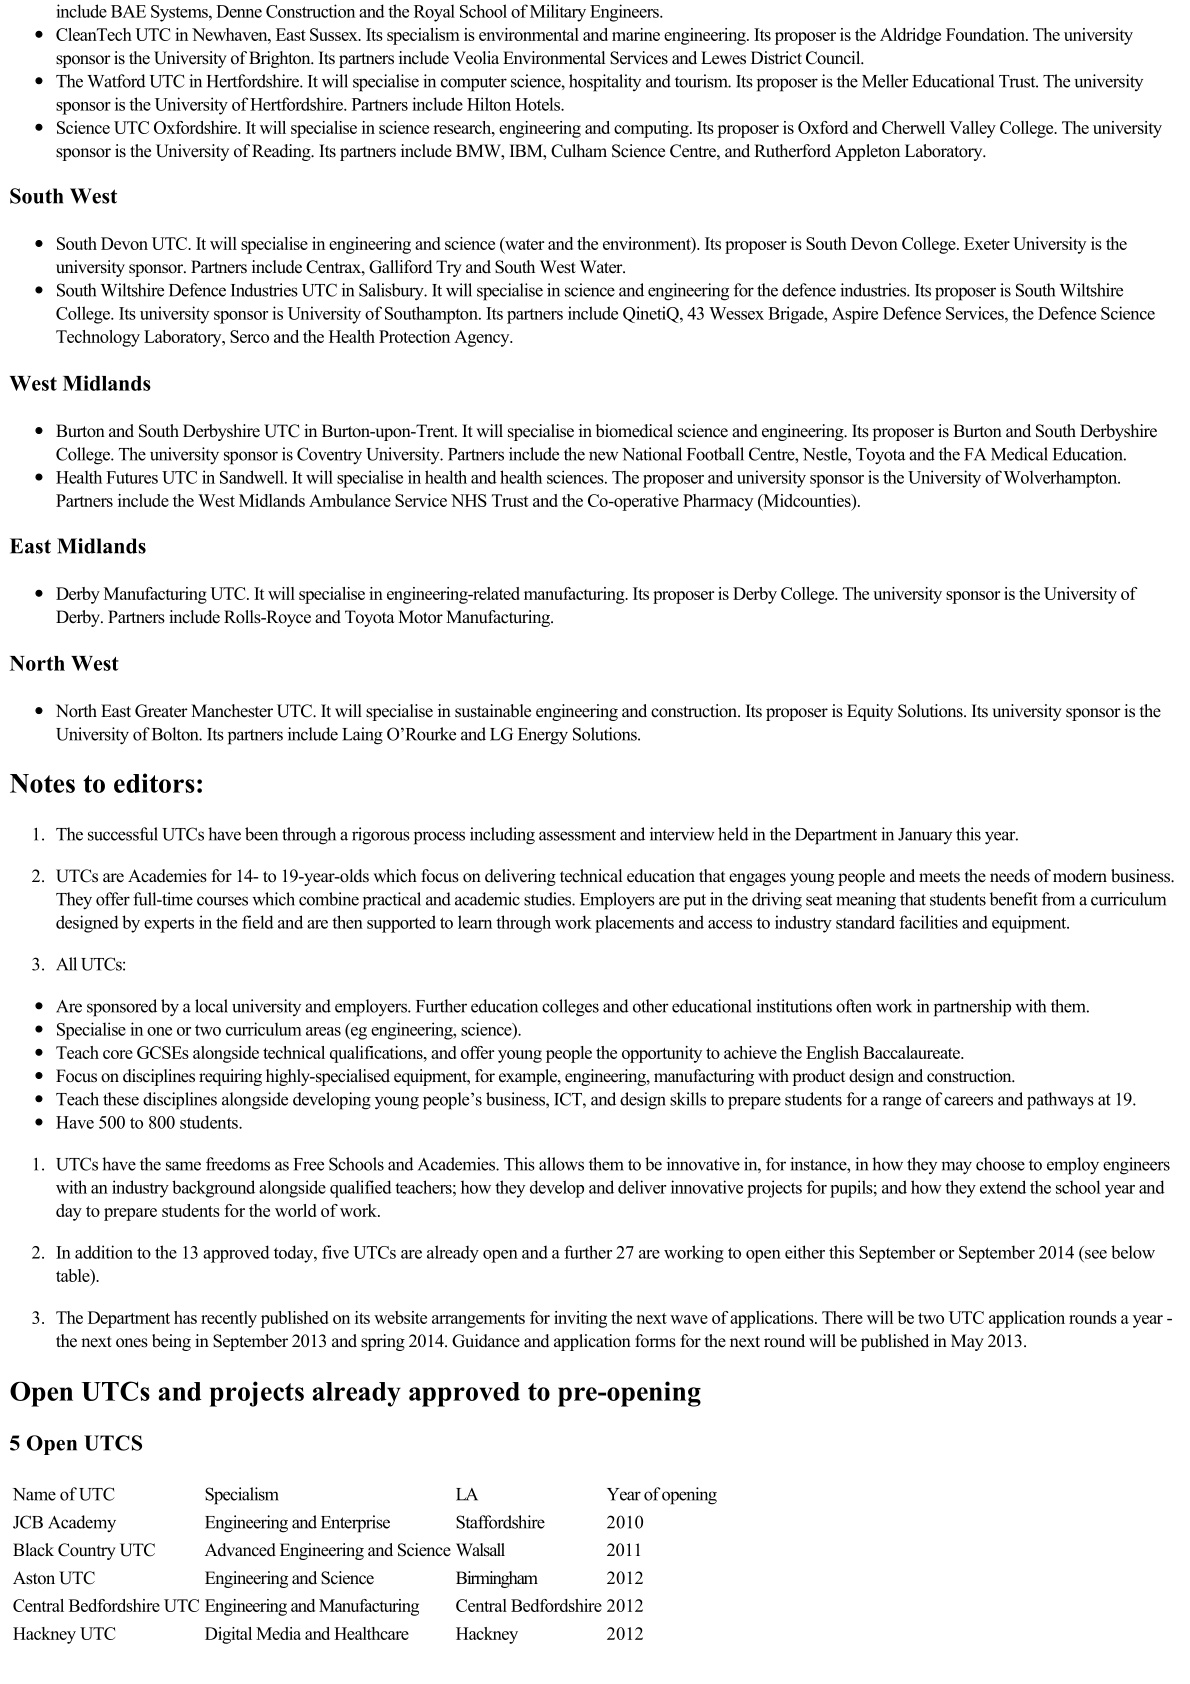nolines: (12, 1482, 722, 1642)
